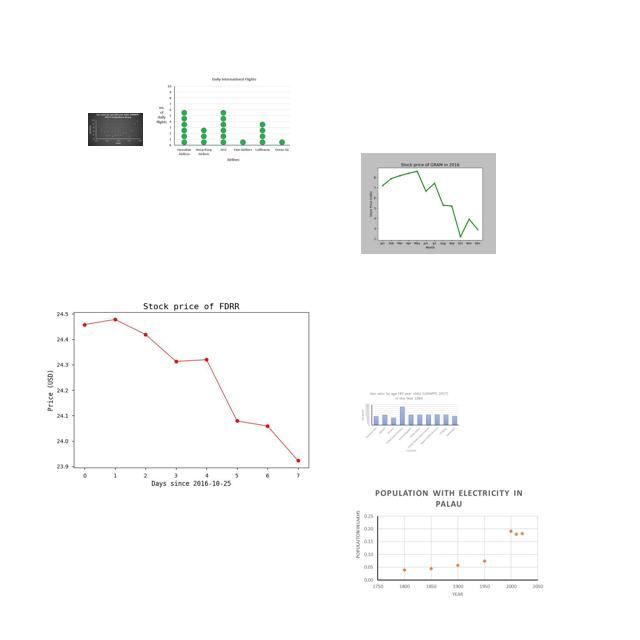Graph: (36, 285, 339, 493), (350, 484, 548, 604), (361, 153, 496, 254), (156, 77, 290, 162), (359, 391, 460, 454), (88, 113, 143, 146)
